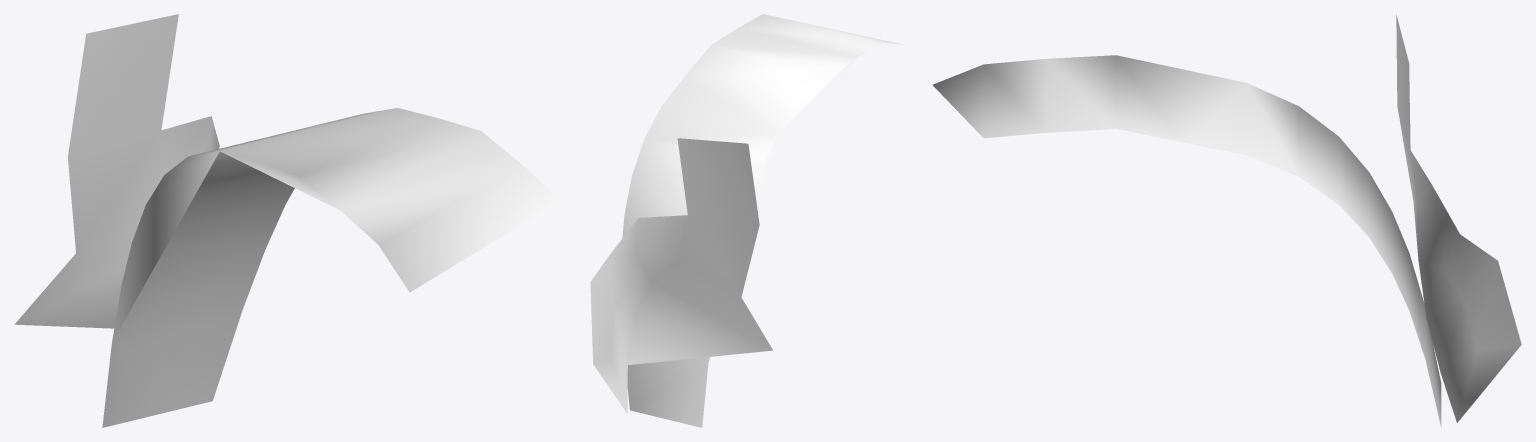
The picture shows the model from 3 angles, left to right: view 1: azimuth 30°, elevation 25°; view 2: azimuth 150°, elevation 25°; view 3: azimuth 270°, elevation 25°; orthographic projection. The views are drawn at different scales.
Bounding box in the file's own units: 0.3014 × 0.4346 × 0.6599.
1 material, 1 textured.
